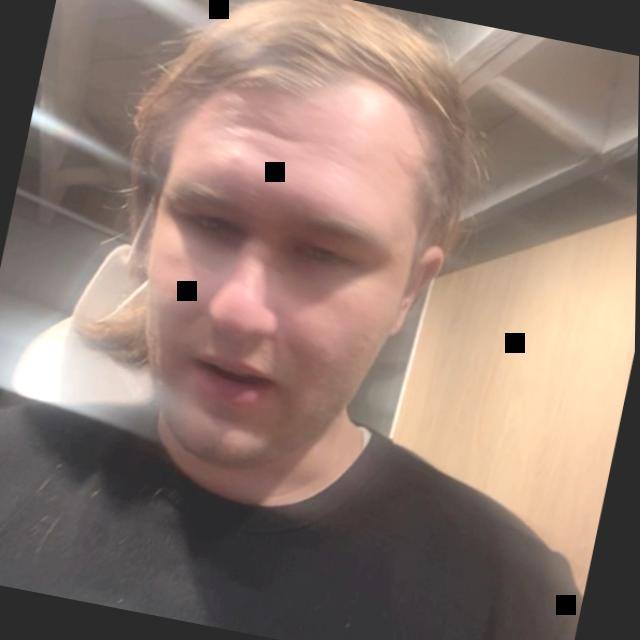NO-Mask: (56, 0, 517, 482)
